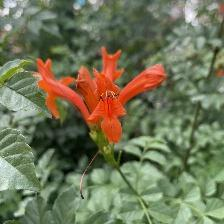honeysuckle: (84, 65, 132, 144)
